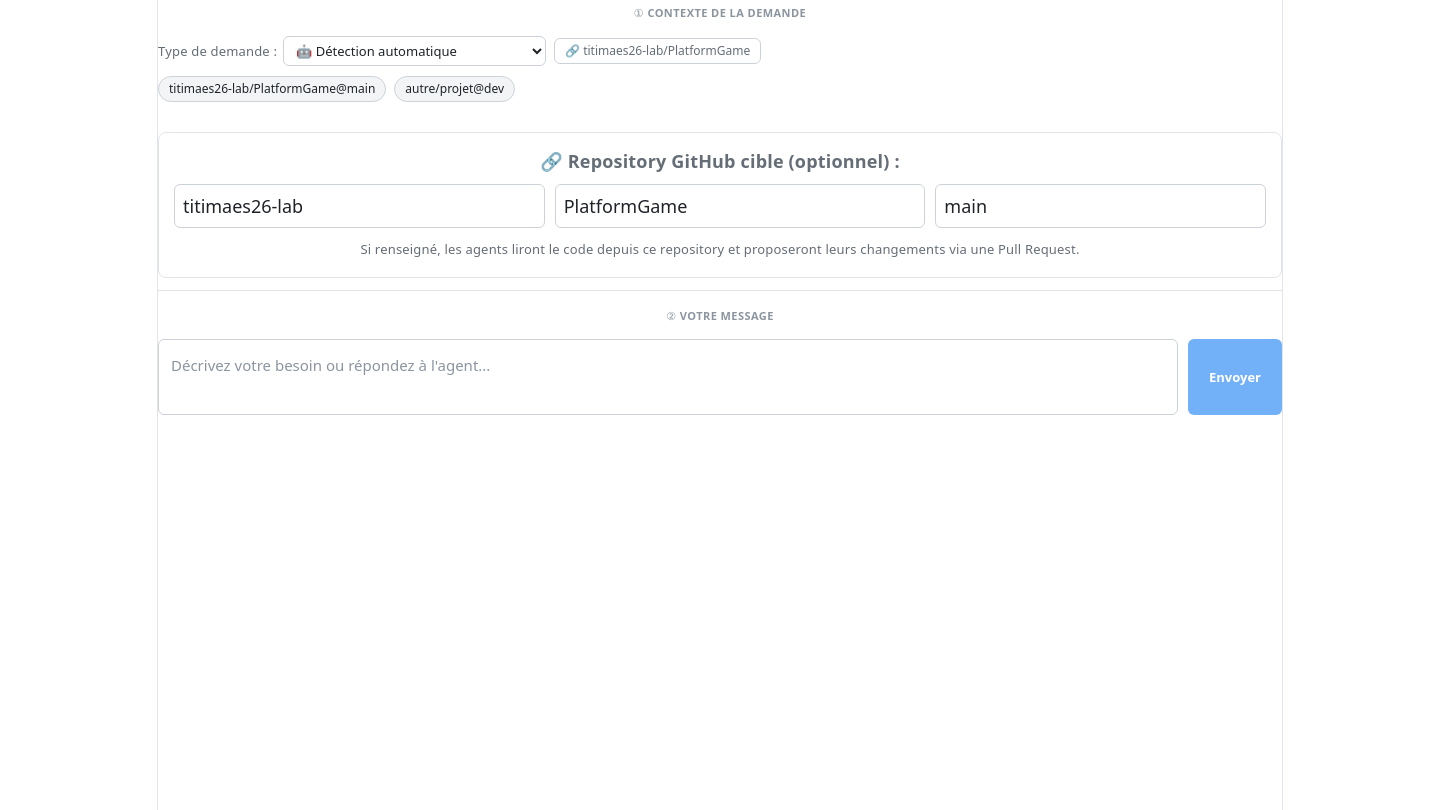
Scenario: ChatInput — repository cible › un clic sur une suggestion remplit les trois champs
Click the button "autre/projet@dev" at [455, 89], box 394,76 -> 515,102
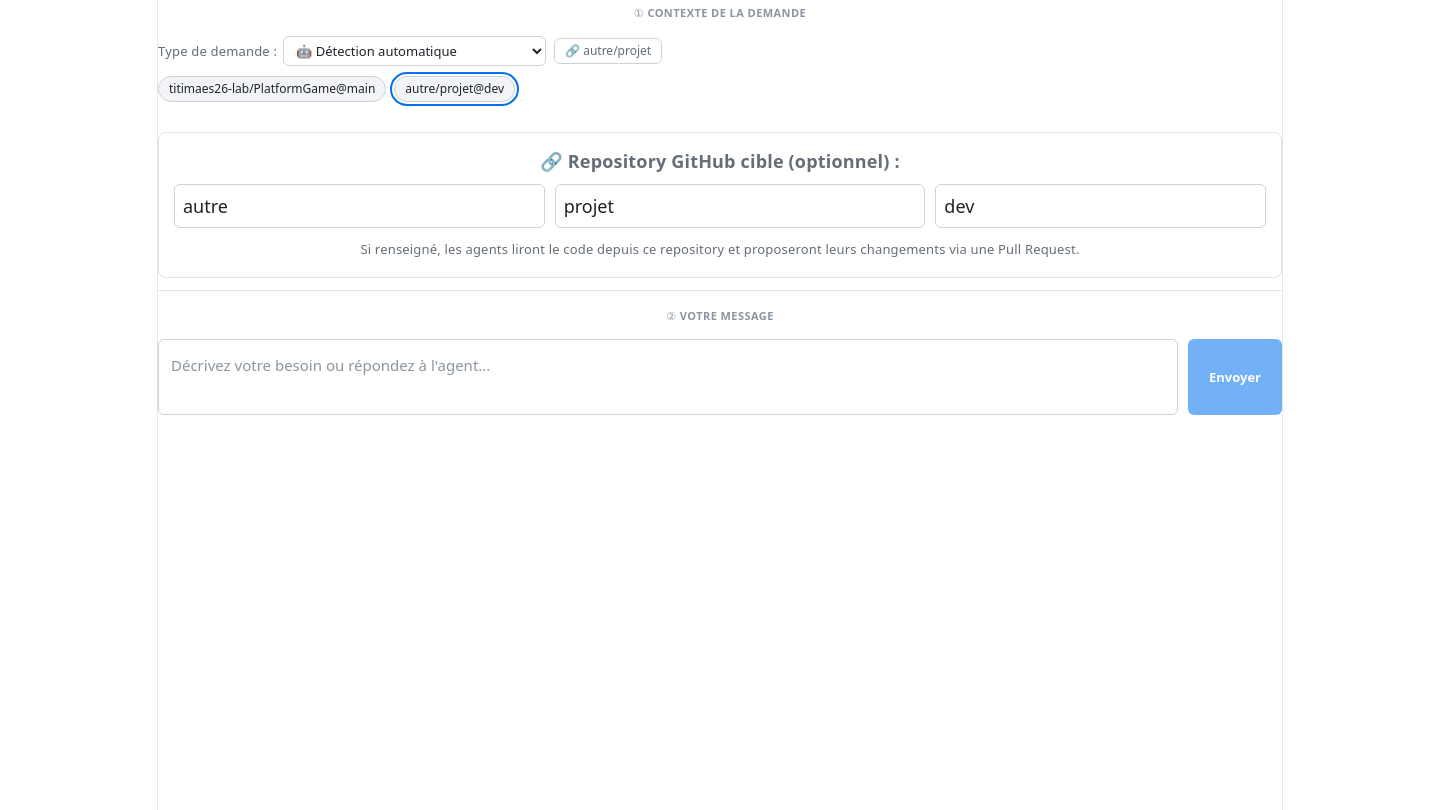
Expected: the field with placeholder "owner (ex: titimaes26-lab)" holds "autre", 174,184 -> 545,228
Expected: the field showing "projet" is shown, 555,184 -> 925,228
Expected: the field showing "dev" is shown, 935,184 -> 1266,228
